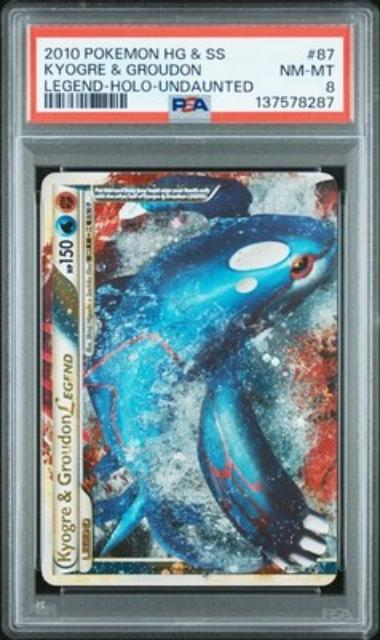Card: (37, 168, 343, 591)
Name: (51, 345, 79, 567)
